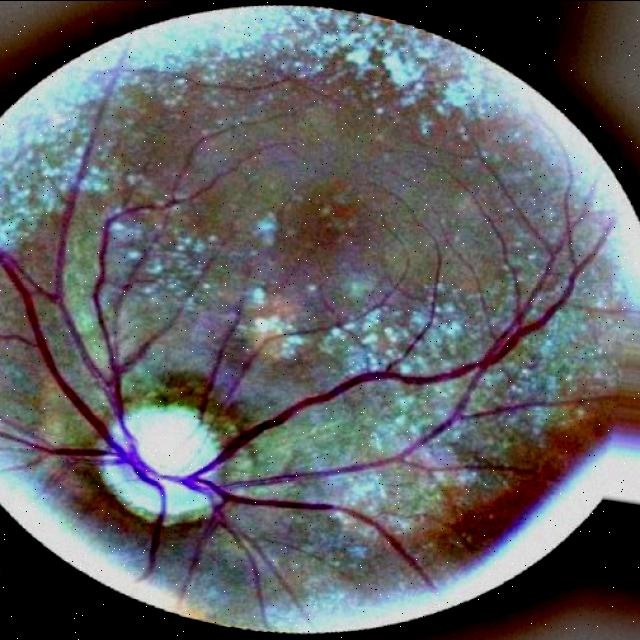Macula: (297, 186, 368, 262)
Nerves: (170, 256, 592, 485), (0, 33, 173, 469), (177, 363, 491, 591), (208, 219, 410, 425)
Optic Disk: (102, 399, 231, 531)
